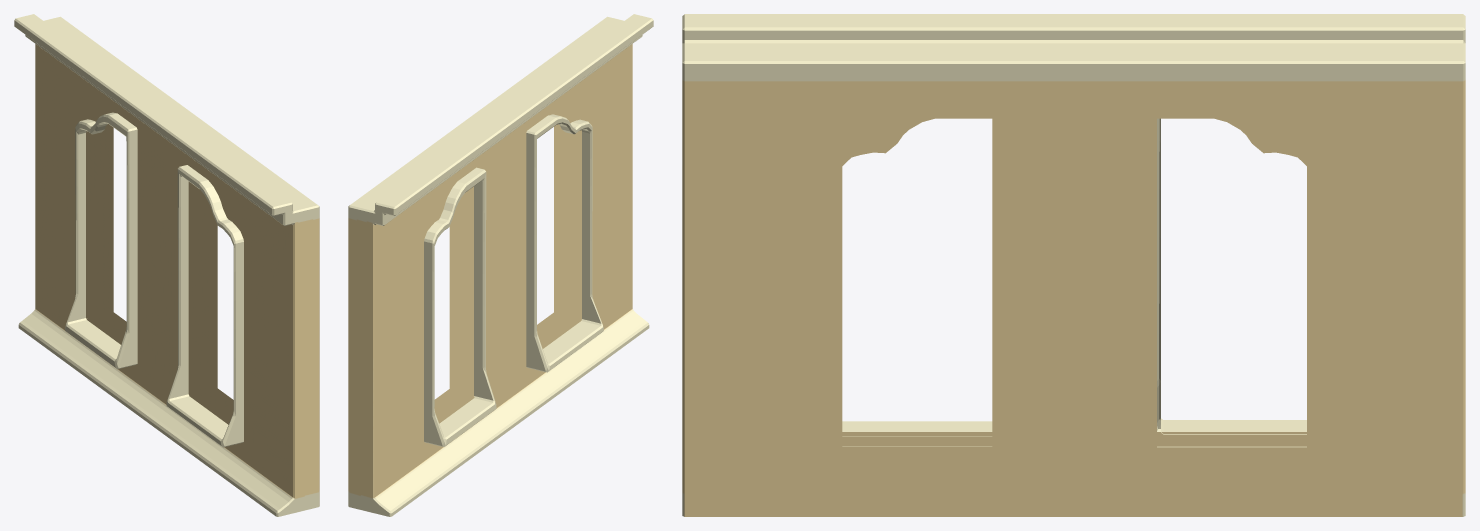
The model's file is ParedeJanelaLonga.fbx.
3 views of the same model, side by side, from view 1: azimuth 30°, elevation 25°; view 2: azimuth 150°, elevation 25°; view 3: azimuth 270°, elevation 25° (orthographic). The views are drawn at different scales.
Visible parts, largest first — view 1: ParedeJanelaLonga; view 2: ParedeJanelaLonga; view 3: ParedeJanelaLonga.
Part boxes in pixels (box(x1,y1,x2,y2)): ParedeJanelaLonga: box(14, 14, 319, 516); ParedeJanelaLonga: box(348, 14, 653, 516); ParedeJanelaLonga: box(682, 14, 1465, 516).
Bounding box in the file's own units: 171 × 1057 × 1600.
